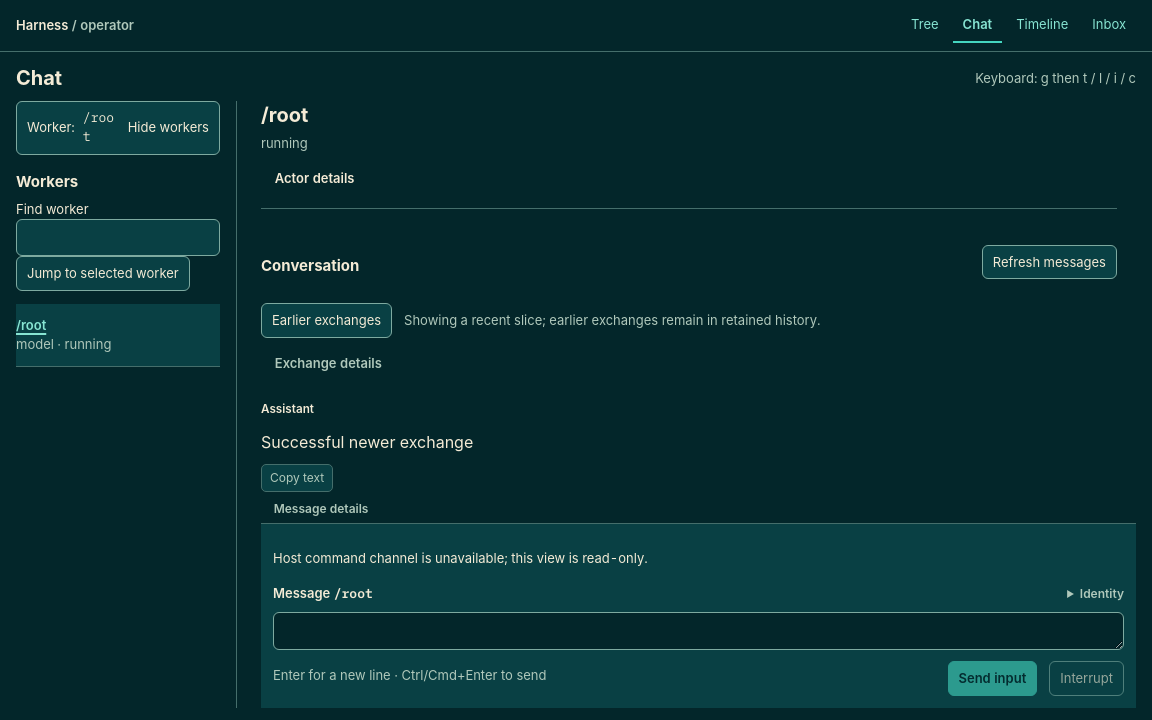
Test: embedded actor chat › matches an earlier failed exchange by its fetched parent ID without attributing it to the successful head
Expected: the text "Successful newer exchange" is shown, [261,432,473,452]
Click the button "Earlier exchanges" at (327, 321), box [261,303,392,338]
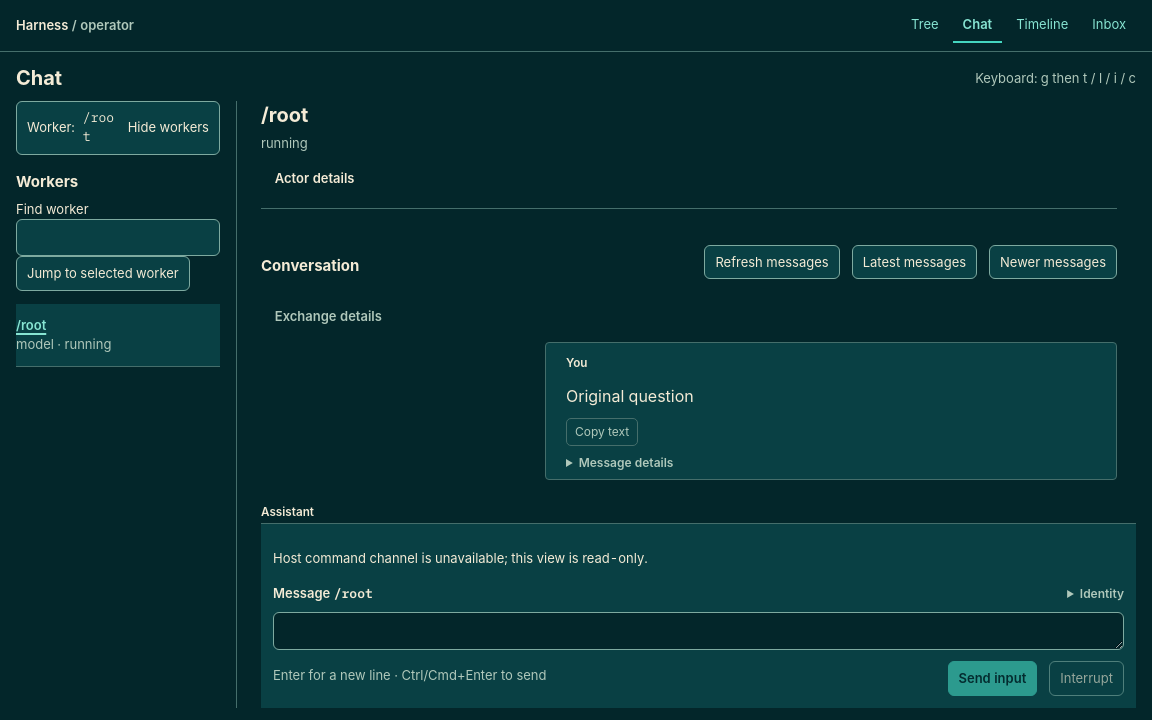
Now the text "Original question" is shown, box [566,386,694,406]
